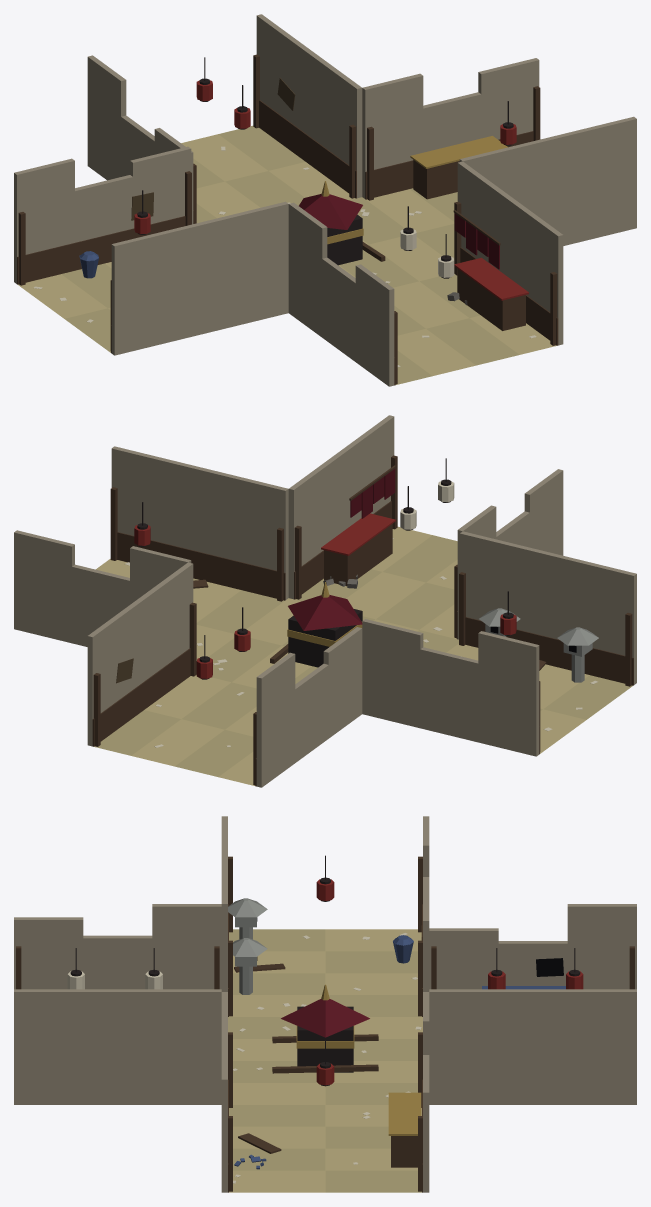
3 renders of one model, top to bottom at view 1: azimuth 30°, elevation 25°; view 2: azimuth 150°, elevation 25°; view 3: azimuth 270°, elevation 25°, orthographic. The views are drawn at different scales.
Visible parts, largest first — view 1: +_C, +_C_Deco; view 2: +_C, +_C_Deco; view 3: +_C, +_C_Deco.
Boxes of the visible parts, x1=… form: +_C: x1=14, y1=14, x2=636, y2=386; +_C_Deco: x1=17, y1=54, x2=558, y2=385; +_C: x1=14, y1=415, x2=636, y2=787; +_C_Deco: x1=92, y1=455, x2=633, y2=786; +_C: x1=14, y1=816, x2=636, y2=1192; +_C_Deco: x1=16, y1=855, x2=634, y2=1192.
Bounding box in the file's own units: 2 × 2 × 0.4031.
